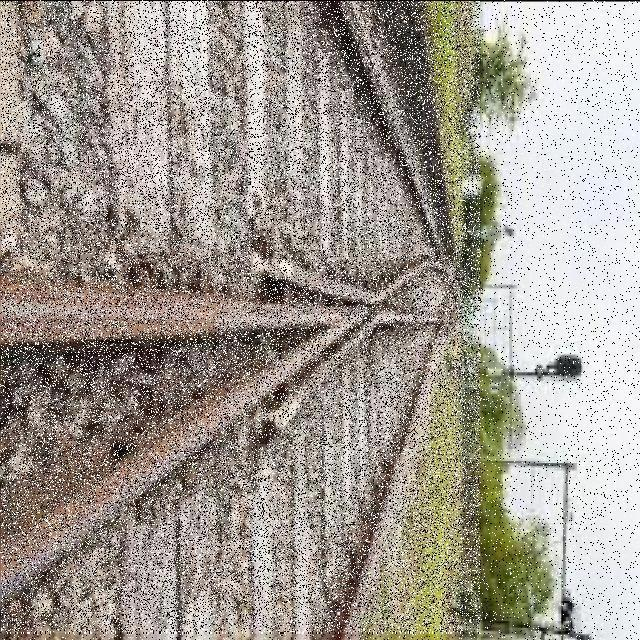rail: (3, 2, 481, 634)
